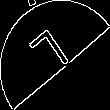L_SE: (30, 26, 80, 84)
